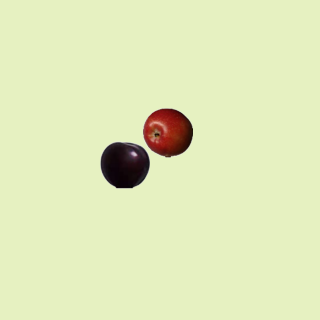Apple Braeburn: (142, 107, 192, 157)
Cherry Wax Black: (99, 139, 149, 189)
